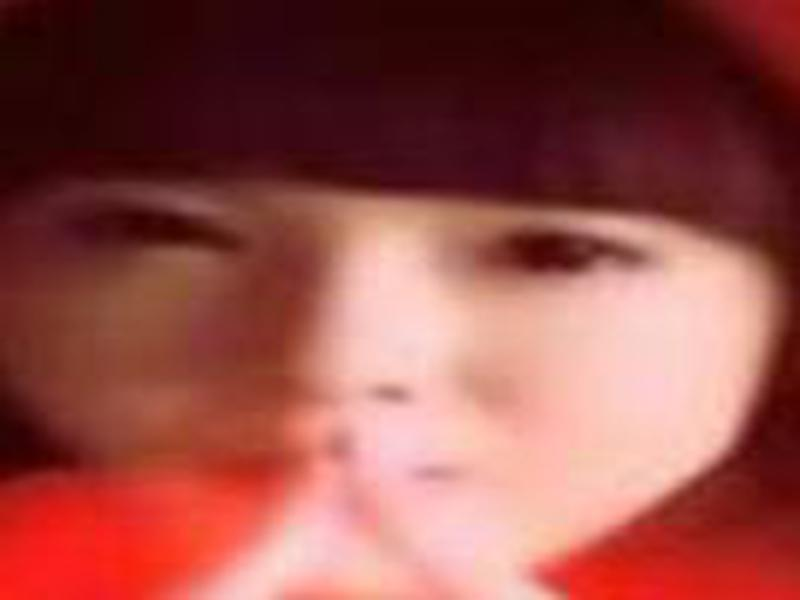without_mask: (10, 159, 776, 582)
